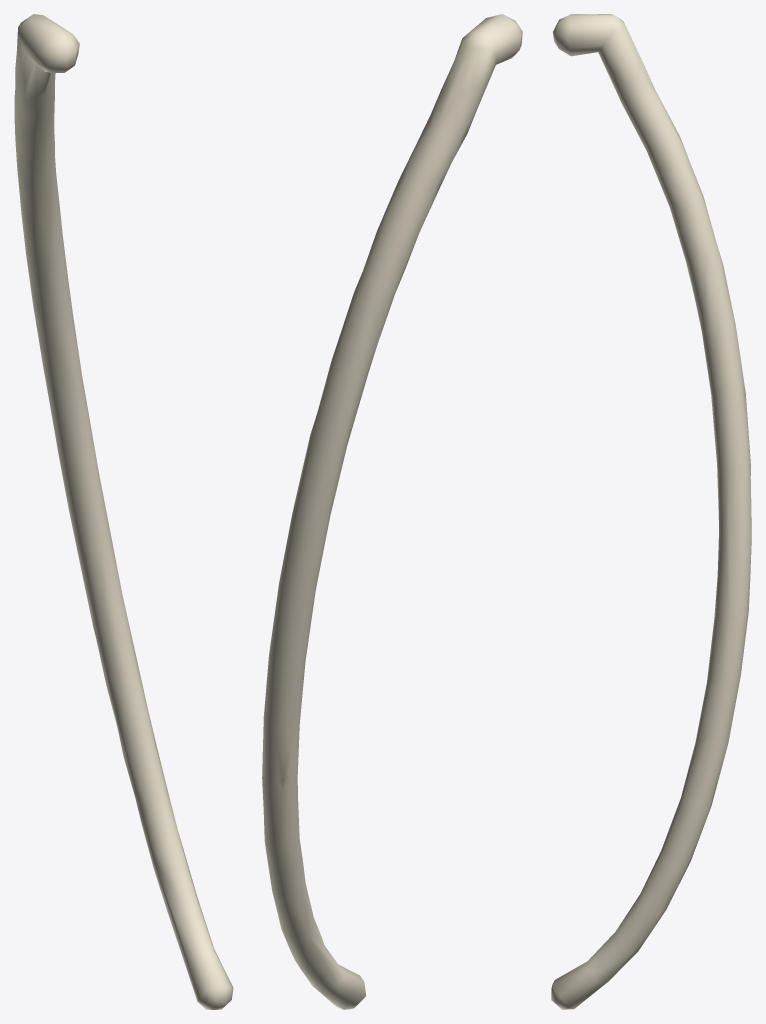
Rendered from rib_3_r.glb.
The picture shows the model from 3 angles, left to right: view 1: azimuth 30°, elevation 25°; view 2: azimuth 150°, elevation 25°; view 3: azimuth 270°, elevation 25°; orthographic projection. The views are drawn at different scales.
Parts seen in each view (by area): view 1: geometry_0; view 2: geometry_0; view 3: geometry_0.
Boxes of the visible parts, bbox=[...] form: geometry_0: bbox=[14, 14, 233, 1009]; geometry_0: bbox=[262, 14, 522, 1009]; geometry_0: bbox=[551, 14, 751, 1009].
Bounding box in the file's own units: 0.2294 × 1.17 × 0.23.
